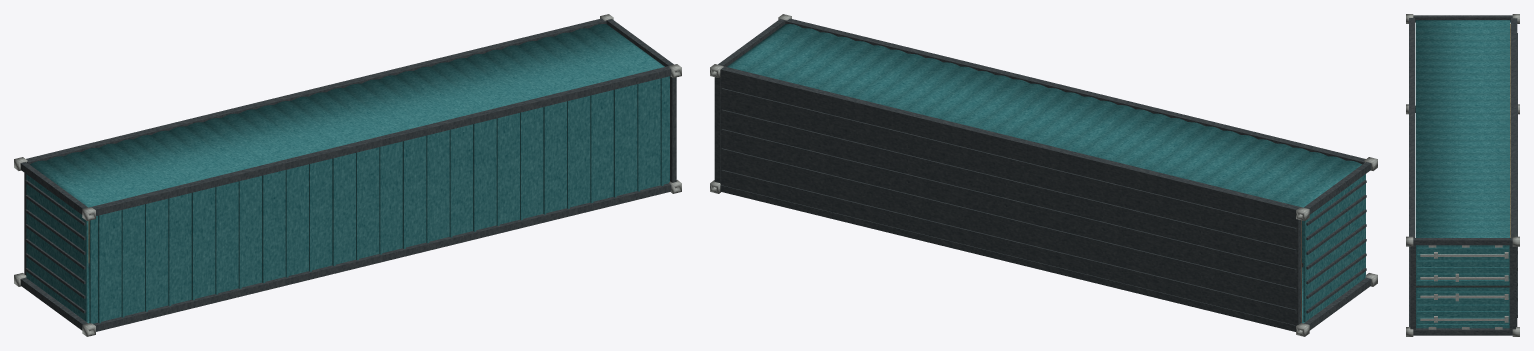
The model's file is PROJECT_Z_ISO_40ft_Container_Prefab.glb.
The picture shows the model from 3 angles, left to right: view 1: azimuth 30°, elevation 25°; view 2: azimuth 150°, elevation 25°; view 3: azimuth 270°, elevation 25°; orthographic projection. The views are drawn at different scales.
Visible parts, largest first — view 1: ISO40GP_RoofPanel, ISO40GP_CorrugatedSide_R_ClosedSteelSheet, ISO40GP_TopRail_R, ISO40GP_TopRail_L, ISO40GP_FrontBulkheadSteel, ISO40GP_BottomRail_R, ISO40GP_CornerPost_L_Front, ISO40GP_CornerPost_R_Front, ISO40GP_RearDoor_Header, ISO40GP_CornerPost_R_Rear; view 2: ISO40GP_BottomFrame_Chassis, ISO40GP_CorrugatedSide_R_ClosedSteelSheet, ISO40GP_BottomRail_R, ISO40GP_FrontBulkheadSteel, ISO40GP_BottomRail_L, ISO40GP_TopRail_R, ISO40GP_Underframe_LongitudinalChannel_1, ISO40GP_Underframe_LongitudinalChannel_2, ISO40GP_Underframe_LongitudinalChannel_4, ISO40GP_Underframe_LongitudinalChannel_5, ISO40GP_Underframe_LongitudinalChannel_3, ISO40GP_CornerPost_L_Front (+3 smaller); view 3: ISO40GP_CorrugatedSide_R_ClosedSteelSheet, ISO40GP_RearDoor_Left_Leaf, ISO40GP_RearDoor_Right_Leaf, ISO40GP_BottomRail_R, ISO40GP_TopRail_R, ISO40GP_CornerPost_R_Rear, ISO40GP_CornerPost_L_Rear, ISO40GP_RearDoor_Threshold, ISO40GP_RearDoor_Header, ISO40GP_CornerPost_R_Front, ISO40GP_RearDoor_Left_VerticalCorrugation_4, ISO40GP_RearDoor_Right_VerticalCorrugation_1 (+17 smaller).
Part boxes in pixels (left/top/right/bottom): ISO40GP_RoofPanel: left=89, top=76, right=669, bottom=323; ISO40GP_CorrugatedSide_R_ClosedSteelSheet: left=30, top=24, right=664, bottom=207; ISO40GP_TopRail_R: left=91, top=66, right=671, bottom=215; ISO40GP_TopRail_L: left=93, top=183, right=671, bottom=331; ISO40GP_FrontBulkheadSteel: left=26, top=174, right=88, bottom=321; ISO40GP_BottomRail_R: left=26, top=18, right=606, bottom=164; ISO40GP_CornerPost_L_Front: left=20, top=277, right=87, bottom=330; ISO40GP_CornerPost_R_Front: left=20, top=162, right=87, bottom=214; ISO40GP_RearDoor_Header: left=670, top=76, right=676, bottom=182; ISO40GP_CornerPost_R_Rear: left=606, top=19, right=673, bottom=66; ISO40GP_BottomFrame_Chassis: left=720, top=76, right=1301, bottom=325; ISO40GP_CorrugatedSide_R_ClosedSteelSheet: left=727, top=24, right=1361, bottom=207; ISO40GP_BottomRail_R: left=720, top=66, right=1300, bottom=216; ISO40GP_FrontBulkheadSteel: left=1303, top=174, right=1365, bottom=321; ISO40GP_BottomRail_L: left=720, top=185, right=1296, bottom=331; ISO40GP_TopRail_R: left=785, top=18, right=1365, bottom=164; ISO40GP_Underframe_LongitudinalChannel_1: left=721, top=170, right=1296, bottom=313; ISO40GP_Underframe_LongitudinalChannel_2: left=721, top=148, right=1296, bottom=292; ISO40GP_Underframe_LongitudinalChannel_4: left=721, top=109, right=1296, bottom=253; ISO40GP_Underframe_LongitudinalChannel_5: left=721, top=88, right=1296, bottom=232; ISO40GP_Underframe_LongitudinalChannel_3: left=721, top=129, right=1296, bottom=273; ISO40GP_CornerPost_L_Front: left=1304, top=277, right=1371, bottom=330; ISO40GP_CorrugatedSide_R_ClosedSteelSheet: left=1415, top=20, right=1510, bottom=237; ISO40GP_RearDoor_Left_Leaf: left=1416, top=287, right=1509, bottom=328; ISO40GP_RearDoor_Right_Leaf: left=1416, top=245, right=1509, bottom=285; ISO40GP_BottomRail_R: left=1511, top=18, right=1517, bottom=237; ISO40GP_TopRail_R: left=1409, top=18, right=1414, bottom=237; ISO40GP_CornerPost_R_Rear: left=1413, top=238, right=1512, bottom=245; ISO40GP_CornerPost_L_Rear: left=1413, top=328, right=1512, bottom=335; ISO40GP_RearDoor_Threshold: left=1509, top=245, right=1515, bottom=330; ISO40GP_RearDoor_Header: left=1410, top=245, right=1415, bottom=329; ISO40GP_CornerPost_R_Front: left=1413, top=15, right=1512, bottom=22; ISO40GP_RearDoor_Left_VerticalCorrugation_4: left=1417, top=304, right=1508, bottom=307; ISO40GP_RearDoor_Right_VerticalCorrugation_1: left=1417, top=247, right=1508, bottom=250.
Size of the model in its own units: 12.19 by 2.44 by 2.59.
6 materials, 6 textured.
